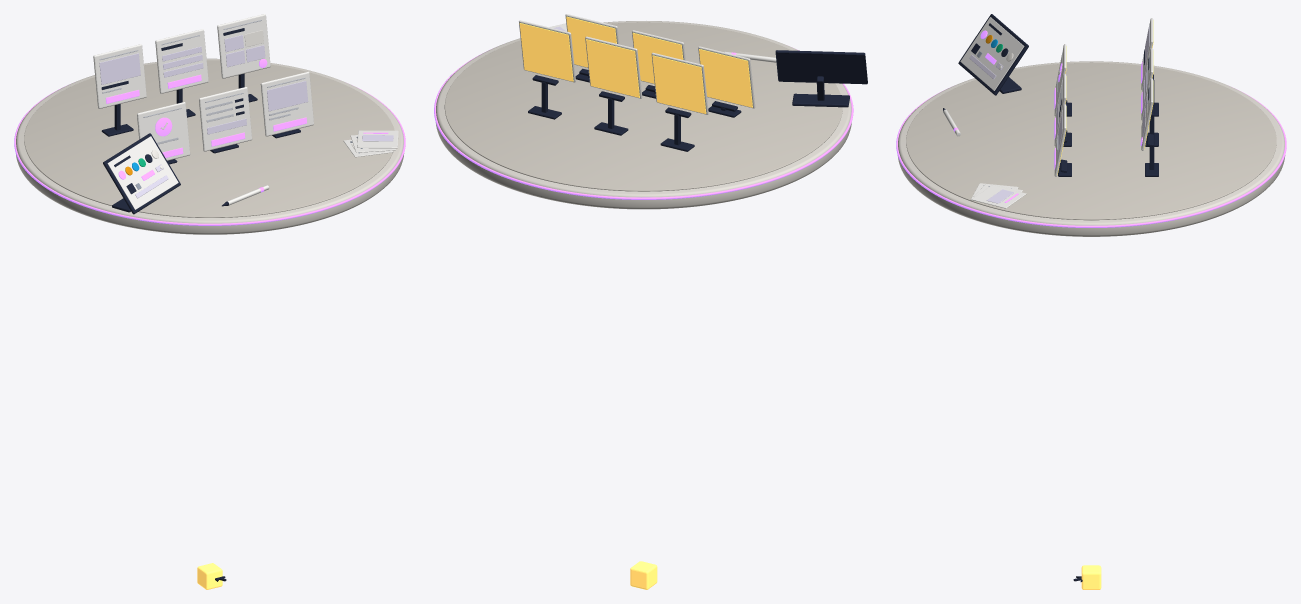
The model's file is shape-studio.glb.
3 views of the same model, side by side, from view 1: azimuth 30°, elevation 25°; view 2: azimuth 150°, elevation 25°; view 3: azimuth 270°, elevation 25° (orthographic). The views are drawn at different scales.
Parts seen in each view (by area): view 1: Plinth top, Plinth, DS sheet, Screen_5_body, Screen_2_body, Screen_6_body, Screen_3_body, Screen_4_body, Screen_1_body, Shape inlay, S1 hero, S4 image (+3 smaller); view 2: Plinth top, Plinth, DS panel, Screen_2_back, Screen_1_back, Screen_3_back, Screen_6_back, Shape inlay, Screen_4_back, Screen_5_back, DS foot, Idea_Core; view 3: Plinth top, Plinth, DS sheet, Shape inlay, DS panel, V3 sheet, Idea_Core.
Boxes of the visible parts, <box> form: Plinth top: <box>24,60,394,217</box>; Plinth: <box>16,58,404,234</box>; DS sheet: <box>107,136,178,209</box>; Screen_5_body: <box>199,87,252,151</box>; Screen_2_body: <box>155,29,208,93</box>; Screen_6_body: <box>137,102,190,160</box>; Screen_3_body: <box>217,14,270,78</box>; Screen_4_body: <box>260,71,314,136</box>; Screen_1_body: <box>93,44,146,108</box>; Shape inlay: <box>14,85,405,225</box>; S1 hero: <box>99,53,140,84</box>; S4 image: <box>267,81,308,111</box>; Plinth top: <box>444,22,842,191</box>; Plinth: <box>435,21,851,209</box>; DS panel: <box>775,50,867,84</box>; Screen_2_back: <box>586,39,639,97</box>; Screen_1_back: <box>652,55,706,113</box>; Screen_3_back: <box>519,23,573,81</box>; Screen_6_back: <box>699,49,752,107</box>; Shape inlay: <box>434,48,853,199</box>; Screen_4_back: <box>566,16,616,67</box>; Screen_5_back: <box>632,32,683,83</box>; DS foot: <box>792,93,849,107</box>; Idea_Core: <box>630,561,657,589</box>; Plinth top: <box>906,62,1276,220</box>; Plinth: <box>897,61,1285,236</box>; DS sheet: <box>960,17,1024,90</box>; Shape inlay: <box>896,87,1286,227</box>; DS panel: <box>958,14,1028,95</box>; V3 sheet: <box>971,185,1026,208</box>; Idea_Core: <box>1081,565,1101,589</box>.
Bounding box in the file's own units: 25.19 × 37.5 × 25.19.
